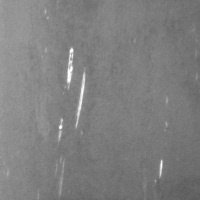scratches: (57, 46, 89, 142), (152, 156, 168, 185)
